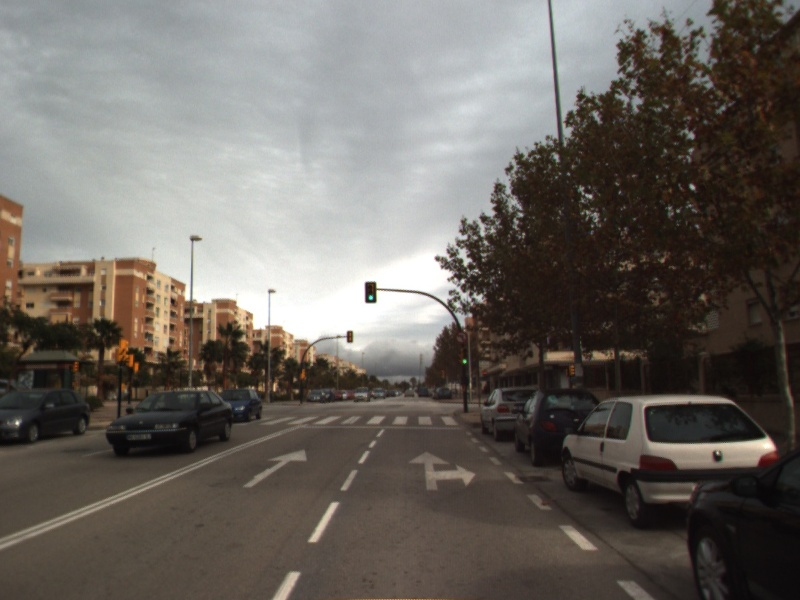STRAIGHT: (241, 447, 310, 490)
STRAIGHT_RIGHT: (406, 449, 478, 492)
